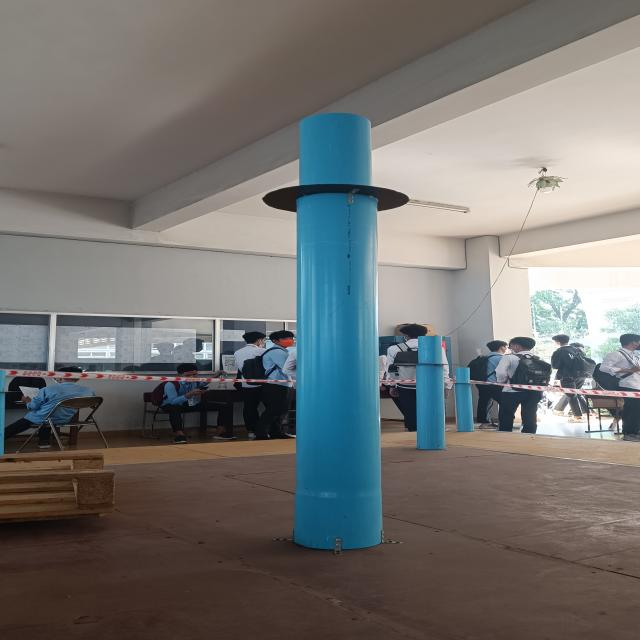pole: (241, 106, 433, 274)
